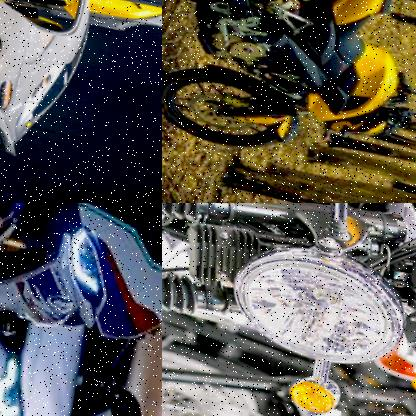bike: (162, 203, 416, 413), (162, 0, 416, 201), (162, 303, 416, 416), (0, 203, 162, 375)
car: (0, 279, 162, 416)
